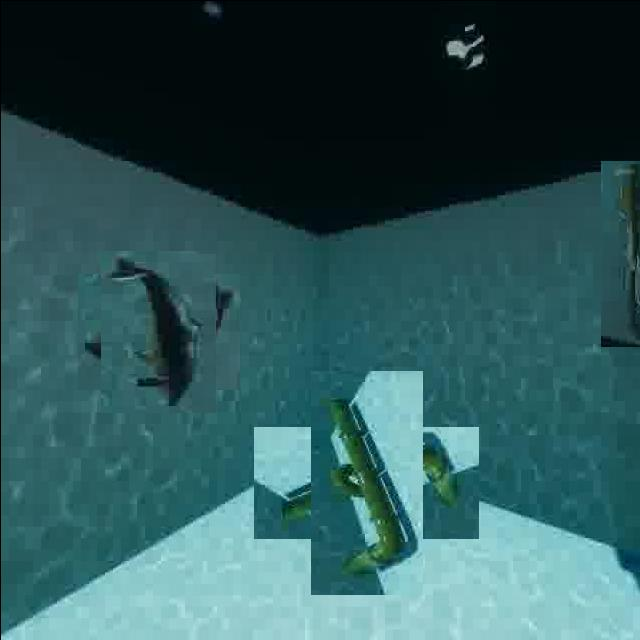Control Panel: (598, 160, 638, 346)
Pipe: (282, 398, 449, 566)
Whale: (89, 262, 228, 401)
